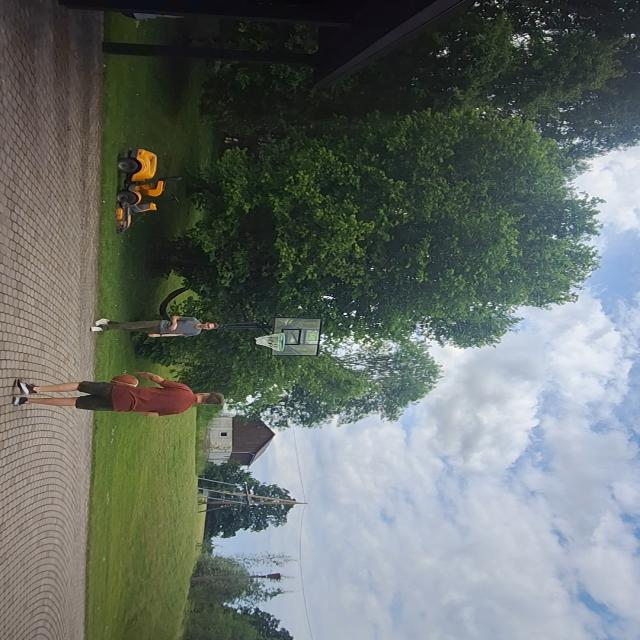ball: (110, 372, 141, 391)
hoop: (253, 329, 288, 355)
player: (6, 364, 230, 414), (83, 314, 217, 342)
